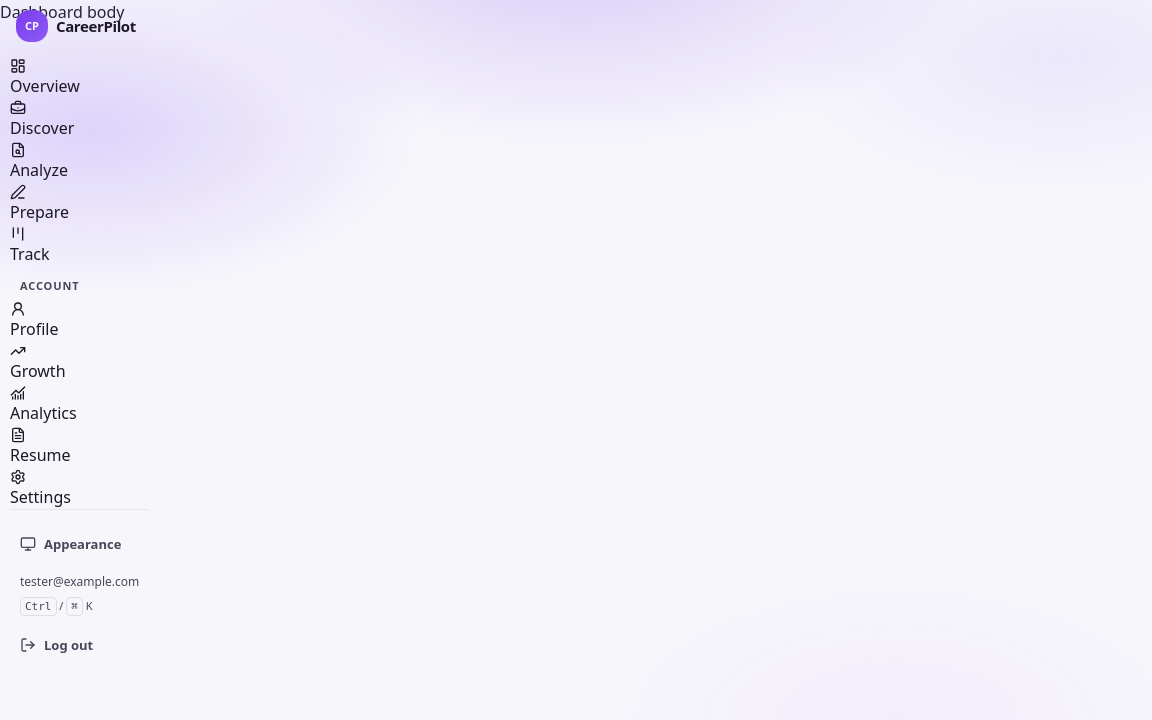
AppShell › requests a top scroll when the route changes
Click the link "Settings". click: (40, 488)
box: 10,468 -> 71,508
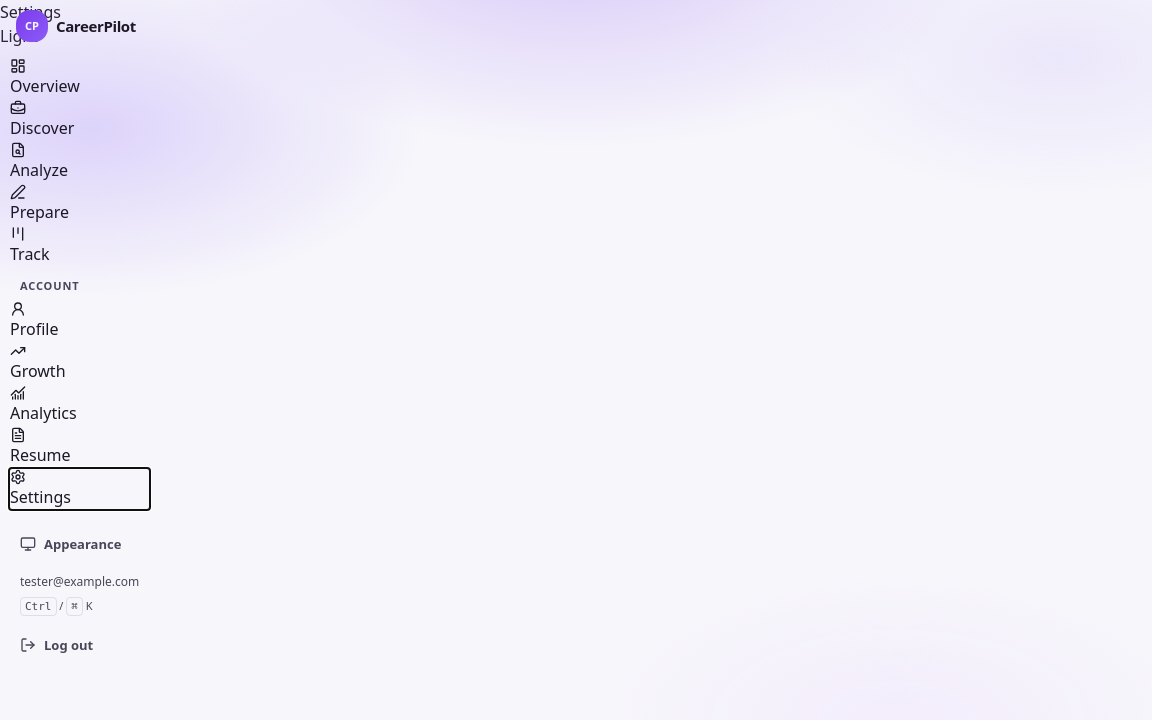
Now the element with test id "settings-page" is shown, box 0,1 -> 61,48
